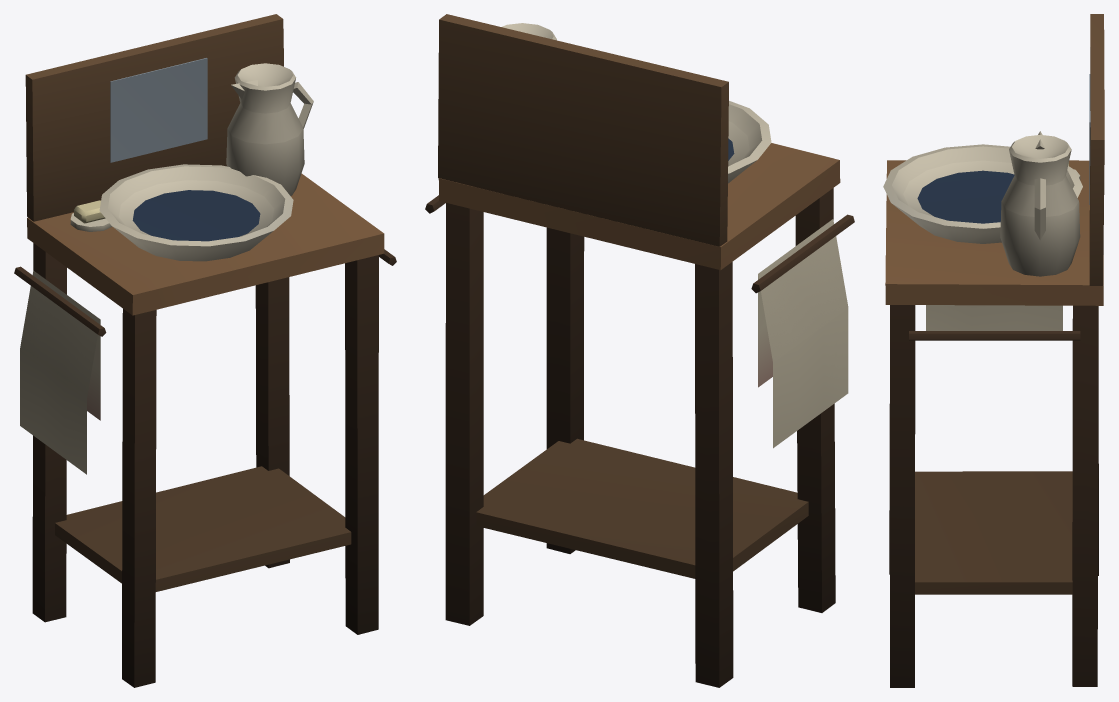
File: ph_int_washbasin.glb
3 renders of one model, left to right at view 1: azimuth 30°, elevation 25°; view 2: azimuth 150°, elevation 25°; view 3: azimuth 270°, elevation 25°, orthographic. The views are drawn at different scales.
Parts seen in each view (by area): view 1: ph_int_washbasin; view 2: ph_int_washbasin; view 3: ph_int_washbasin.
Boxes of the visible parts, x1,y1,x2,y2 form: ph_int_washbasin: [14, 14, 396, 687]; ph_int_washbasin: [425, 14, 854, 687]; ph_int_washbasin: [883, 14, 1104, 687].
Size of the model in its own units: 0.6226 by 1.06 by 0.3879.
